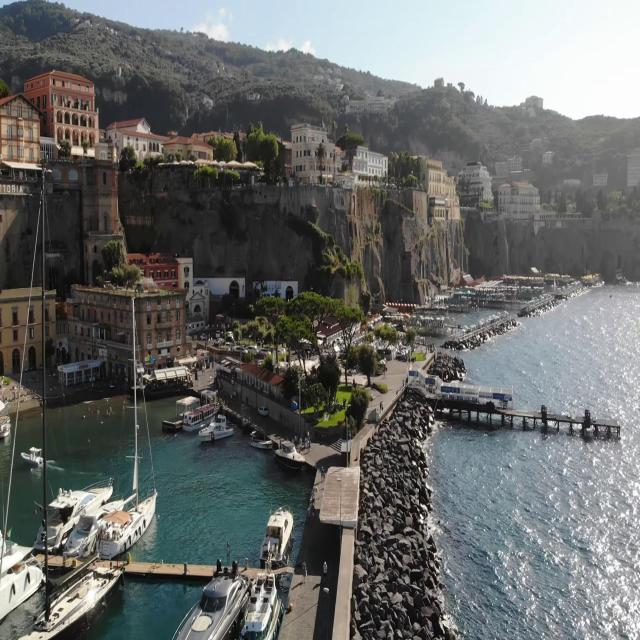boat: (34, 474, 114, 552), (69, 492, 126, 554), (260, 500, 296, 566), (276, 432, 304, 472), (199, 414, 231, 442), (182, 402, 208, 431), (21, 443, 41, 468), (250, 433, 274, 451)
sailboat: (19, 159, 127, 640), (100, 298, 155, 556)
